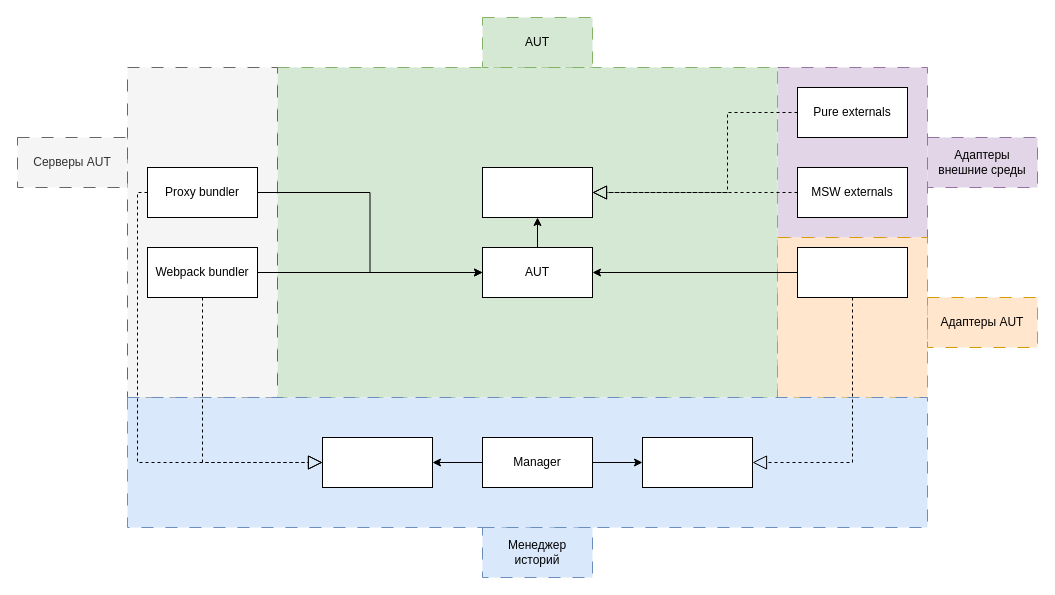
The diagram is 1055 pixels wide and 595 high, and some of its shapes have lost their labels. Here are the shapes that lost their labels. From the top down, the centre of each, then its label:
At pixel 537 192: "«interface» IExternals".
At pixel 852 272: "React preview".
At pixel 377 462: "«interface» IPreviewServer".
At pixel 697 462: "«interface» IPreviewDisplay".
